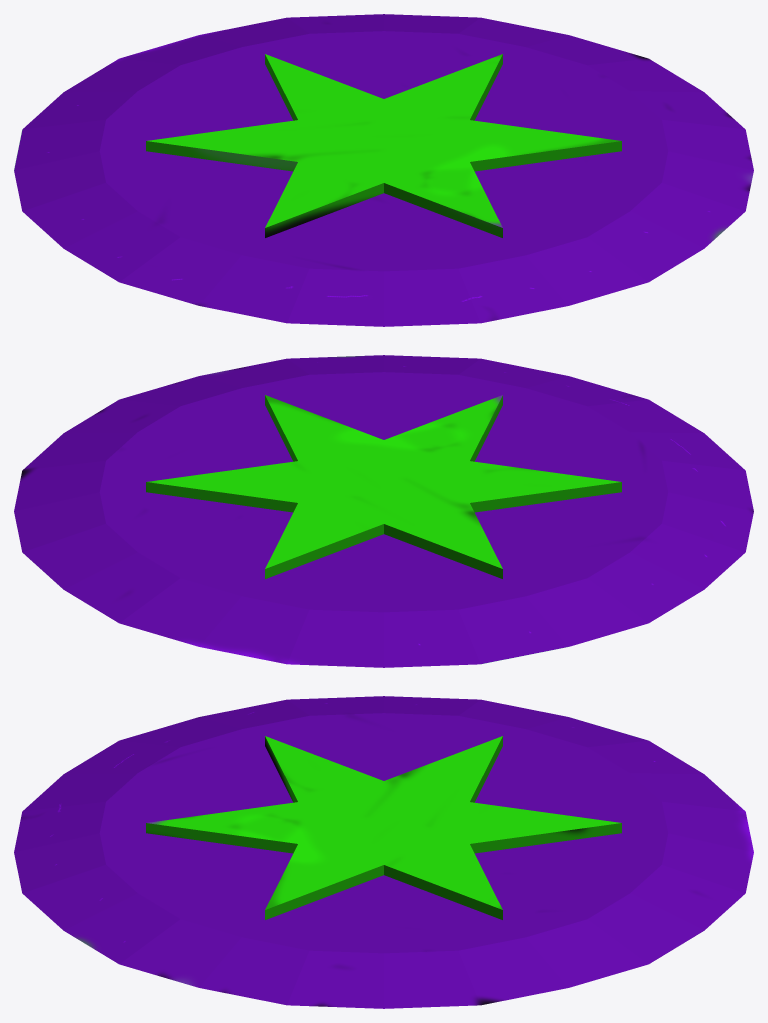
Rendered from Star.obj.
3 views of the same model, one above another, from view 1: azimuth 30°, elevation 25°; view 2: azimuth 150°, elevation 25°; view 3: azimuth 270°, elevation 25° (orthographic).
Visible parts, largest first — view 1: Circle_Circle.001; view 2: Circle_Circle.001; view 3: Circle_Circle.001.
Part boxes in pixels (bbox=[...]): Circle_Circle.001: bbox=[14, 14, 753, 326]; Circle_Circle.001: bbox=[14, 355, 753, 667]; Circle_Circle.001: bbox=[14, 696, 753, 1008].
Bounding box in the file's own units: 3.11 × 0.1367 × 3.11.
1 material, 1 textured.
